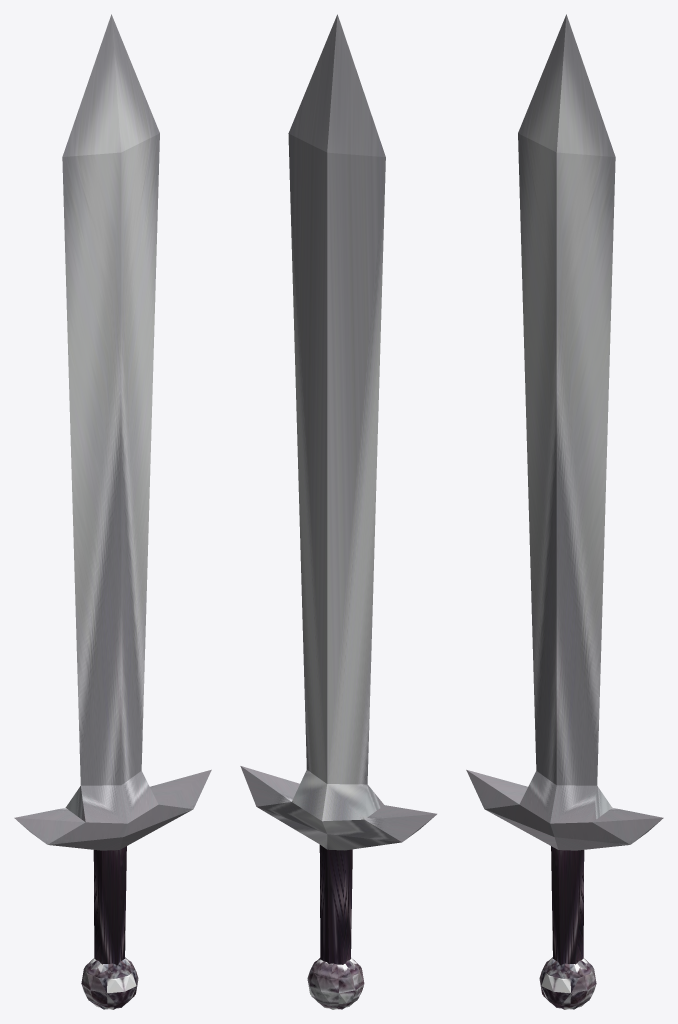
Rendered from sword_1.glb.
The picture shows the model from 3 angles, left to right: view 1: azimuth 30°, elevation 25°; view 2: azimuth 150°, elevation 25°; view 3: azimuth 330°, elevation 25°; orthographic projection.
Parts seen in each view (by area): view 1: Cube; view 2: Cube; view 3: Cube.
Part boxes in pixels (x1,y1,x2,y2): Cube: (14,14,211,1009); Cube: (240,14,436,1009); Cube: (466,14,663,1009).
Size of the model in its own units: 0.6544 by 3.14 by 0.186.
Materials: 1 (1 with a texture image).
